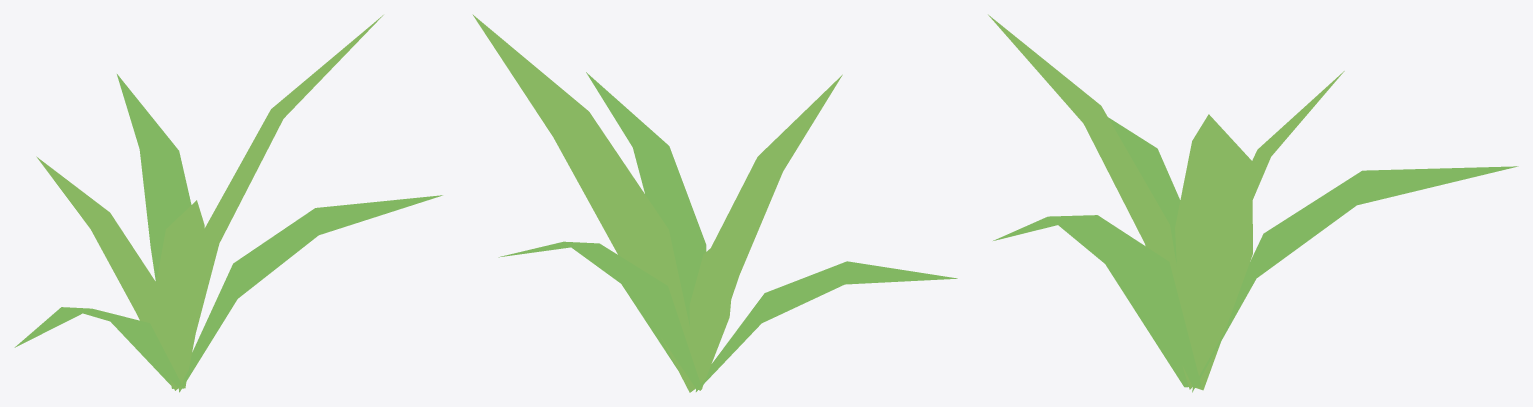
The model's file is Plant_e_TwoS_06.fbx.
3 views of the same model, side by side, from view 1: azimuth 30°, elevation 25°; view 2: azimuth 150°, elevation 25°; view 3: azimuth 270°, elevation 25° (orthographic). The views are drawn at different scales.
Visible parts, largest first — view 1: Plant_e_TwoS_06; view 2: Plant_e_TwoS_06; view 3: Plant_e_TwoS_06.
Boxes of the visible parts, bbox=[...] form: Plant_e_TwoS_06: bbox=[14, 15, 442, 392]; Plant_e_TwoS_06: bbox=[472, 14, 957, 392]; Plant_e_TwoS_06: bbox=[988, 14, 1518, 392].
Size of the model in its own units: 0.7492 by 0.5417 by 0.6409.
